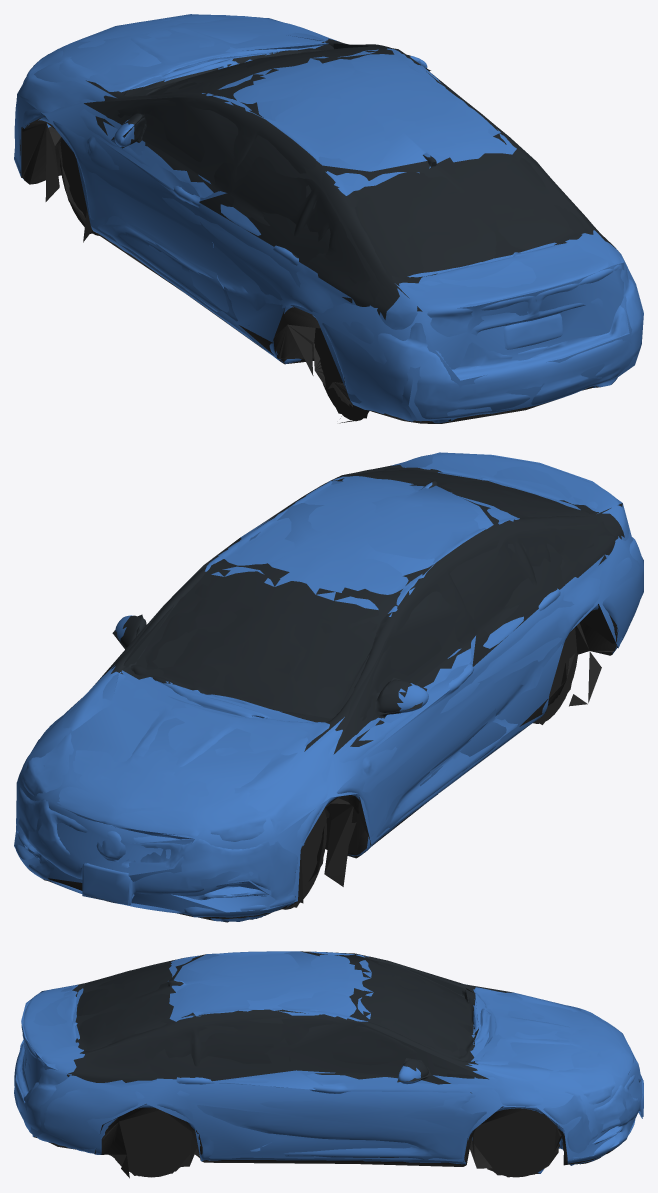
Rendered from buick-regal.glb.
The picture shows the model from 3 angles, top to bottom: view 1: azimuth 30°, elevation 25°; view 2: azimuth 150°, elevation 25°; view 3: azimuth 270°, elevation 25°; orthographic projection. The views are drawn at different scales.
Parts seen in each view (by area): view 1: body, far; view 2: body, far; view 3: body, far.
Boxes of the visible parts, left/top/right/bottom form: body: left=14, top=14, right=642, bottom=423; far: left=14, top=14, right=643, bottom=420; body: left=15, top=453, right=643, bottom=922; far: left=14, top=452, right=643, bottom=912; body: left=14, top=951, right=643, bottom=1177; far: left=14, top=951, right=642, bottom=1178.
Bounding box in the file's own units: 2.06 × 1.46 × 5.04.
